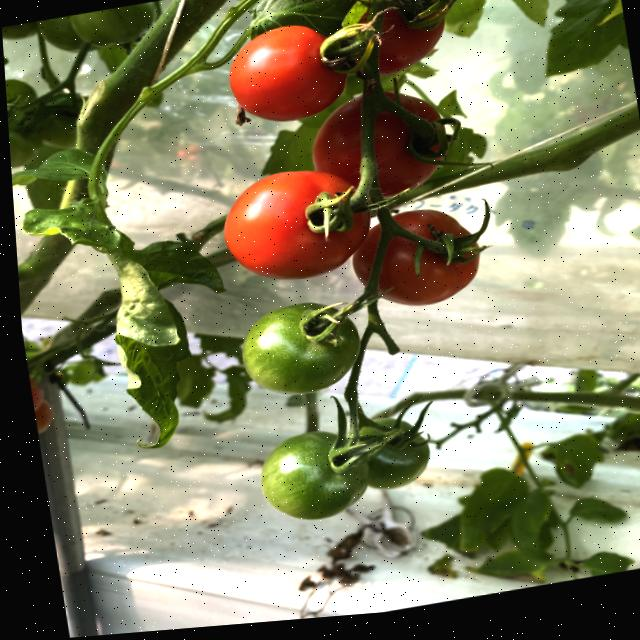ripe0: (234, 293, 368, 402), (69, 1, 161, 48)
ripe2: (217, 157, 376, 290), (223, 17, 351, 129)
